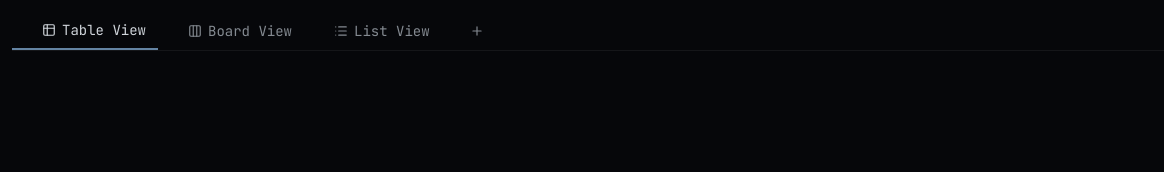
Scenario: ViewTabs — context menu › opens context menu on right-click with Rename, Duplicate, Delete options
Right-click to open context menu
Right-click the tab "Board View".
right_click(231, 31)  # box [158,13,304,49]
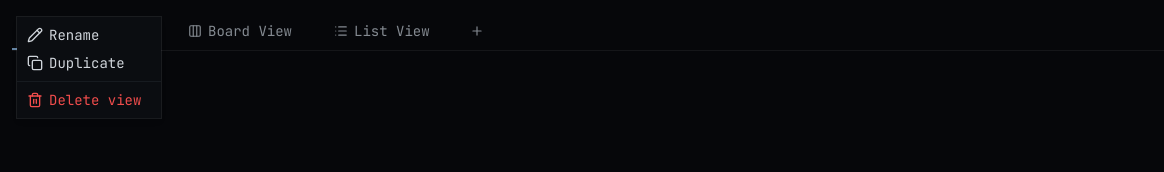
Check: the text "Rename" is shown, box [49,25,99,45]
Check: the text "Duplicate" is shown, box [49,53,125,73]
Check: the text "Delete view" is shown, box [49,90,141,110]
